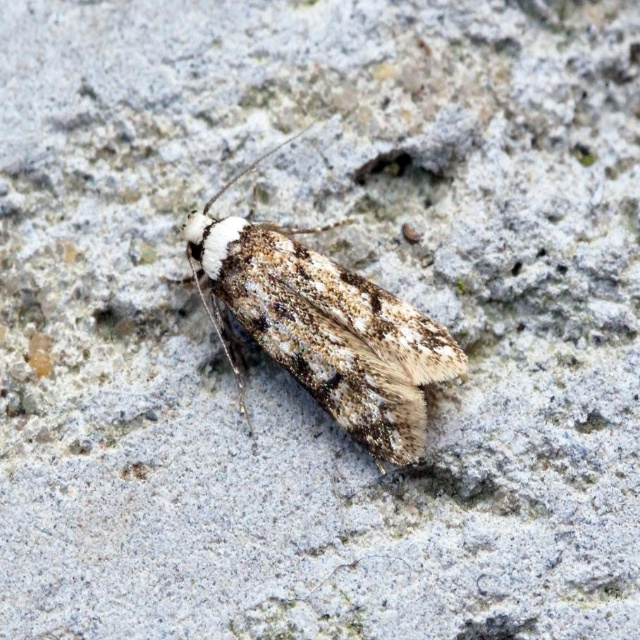Moths and butterflies: (174, 110, 469, 479)
